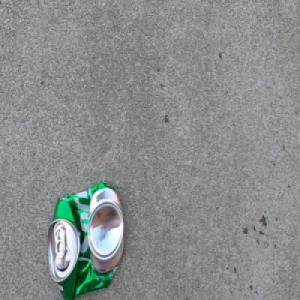SodaCan: (46, 181, 124, 300)
